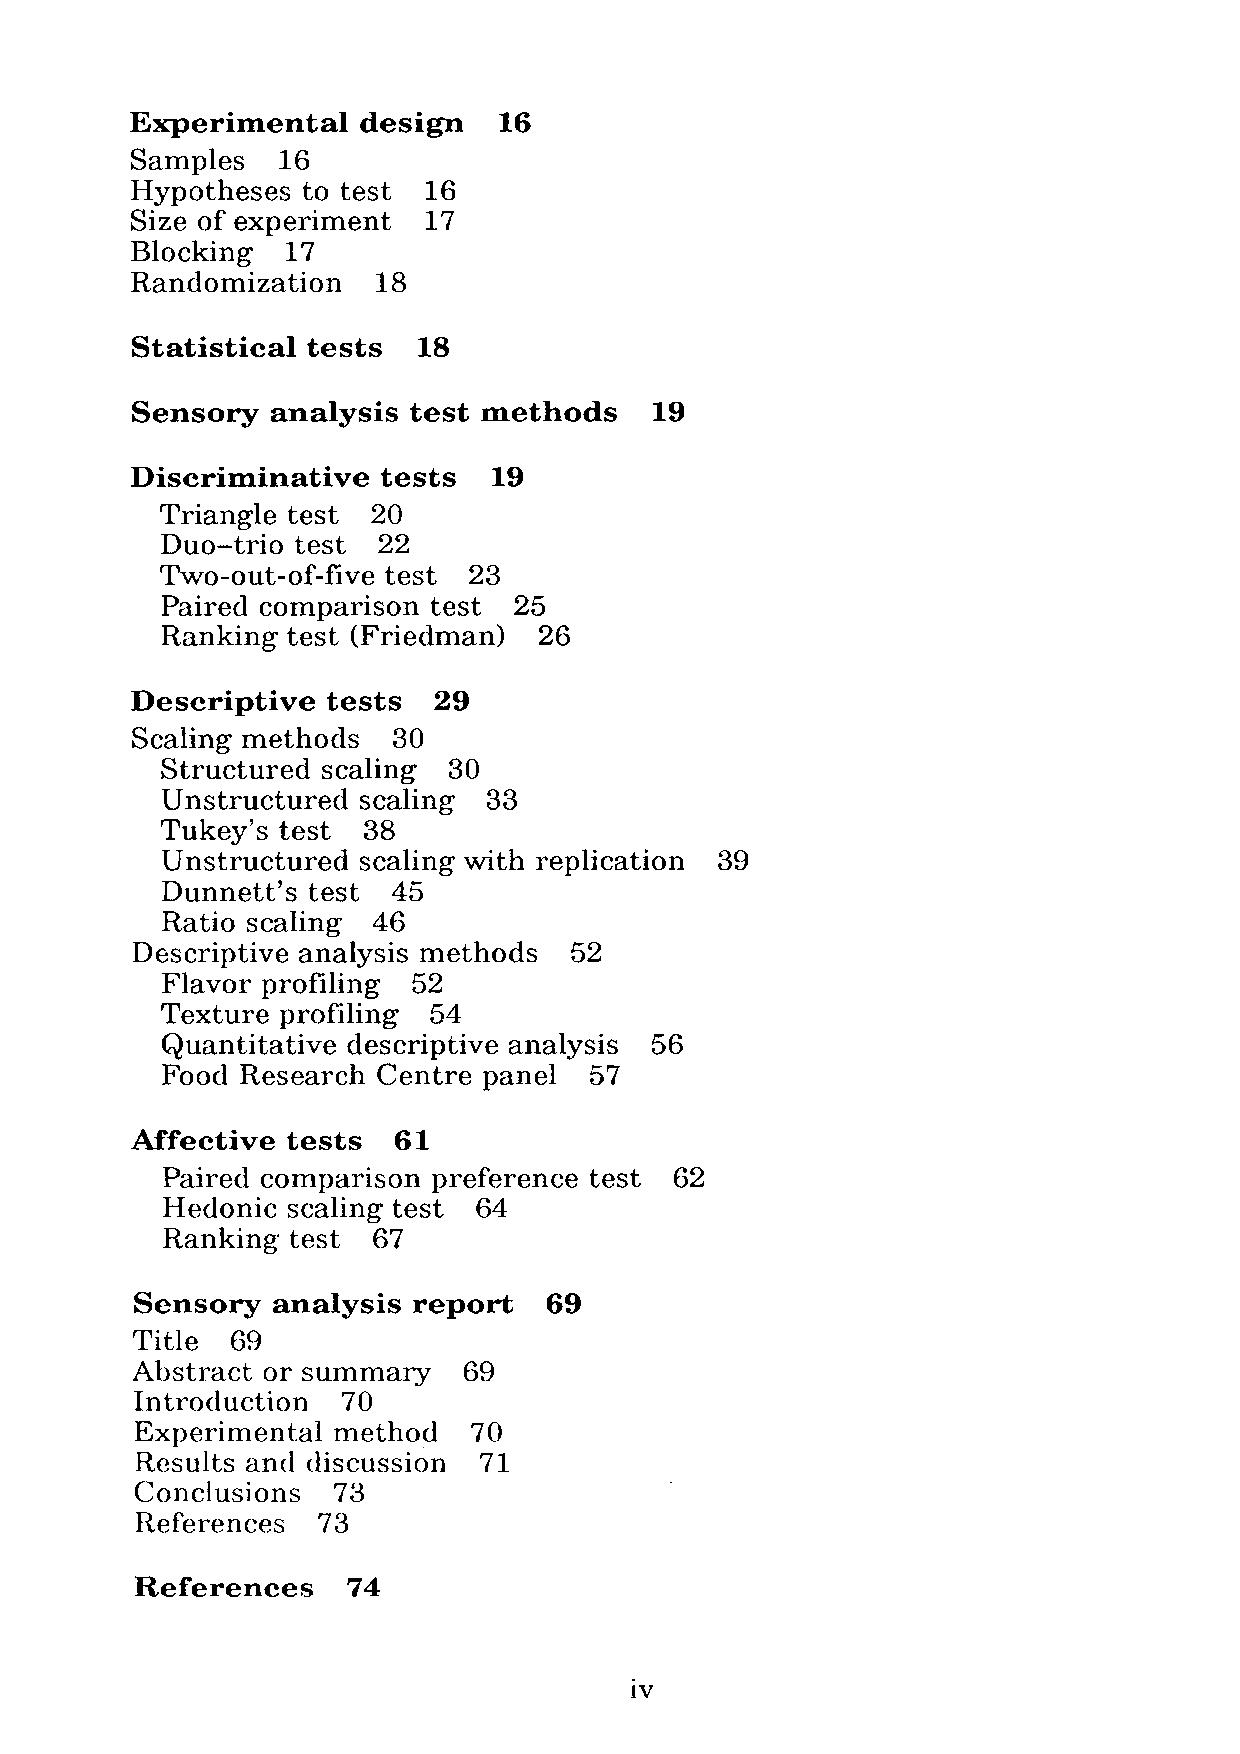TOC_chapter: (119, 395, 624, 433), (156, 845, 684, 875), (162, 1159, 643, 1190), (129, 1283, 519, 1318), (126, 97, 468, 136), (156, 1057, 560, 1088), (158, 1031, 619, 1057), (129, 937, 538, 966), (156, 619, 513, 652), (126, 459, 458, 491), (129, 679, 405, 717), (126, 327, 385, 365), (160, 1190, 444, 1223), (158, 786, 462, 816), (132, 1358, 435, 1388), (126, 1418, 440, 1447), (132, 1449, 450, 1476), (154, 560, 437, 589), (125, 1119, 364, 1154), (125, 207, 395, 238), (160, 754, 421, 785), (158, 593, 488, 617), (126, 718, 361, 750), (157, 968, 382, 1000), (127, 176, 395, 203), (132, 1567, 318, 1602), (158, 876, 362, 907), (132, 268, 349, 297), (162, 1224, 348, 1256), (156, 1002, 399, 1027), (157, 497, 346, 527), (158, 909, 348, 939), (127, 1386, 311, 1417), (157, 531, 349, 560), (134, 1510, 290, 1541), (156, 815, 331, 841), (132, 1480, 306, 1504), (125, 142, 248, 173), (127, 238, 256, 264), (126, 1326, 201, 1354)
TOC_pagenumber: (334, 1559, 396, 1613), (488, 89, 545, 137), (464, 1405, 507, 1444), (429, 682, 471, 717), (670, 1157, 713, 1190), (417, 326, 454, 365), (651, 391, 684, 432), (309, 1504, 352, 1537), (568, 934, 607, 969), (442, 752, 487, 781), (392, 1123, 432, 1154), (544, 1286, 584, 1317), (715, 843, 750, 878), (487, 458, 526, 488), (462, 1351, 494, 1388), (420, 173, 460, 201), (648, 1029, 687, 1057), (476, 1445, 510, 1478), (278, 140, 313, 170), (370, 268, 413, 293), (228, 1322, 263, 1351), (385, 723, 425, 749), (389, 878, 428, 903), (467, 560, 502, 588), (409, 966, 444, 994), (370, 1227, 405, 1255), (373, 529, 413, 553), (337, 1388, 376, 1412), (368, 497, 403, 523), (421, 207, 458, 232), (370, 909, 412, 930), (513, 590, 544, 619), (327, 1482, 368, 1503), (472, 1196, 513, 1217), (364, 819, 399, 841), (487, 785, 518, 811), (285, 238, 315, 262), (539, 621, 570, 646), (590, 1062, 621, 1086), (429, 1001, 460, 1024)
